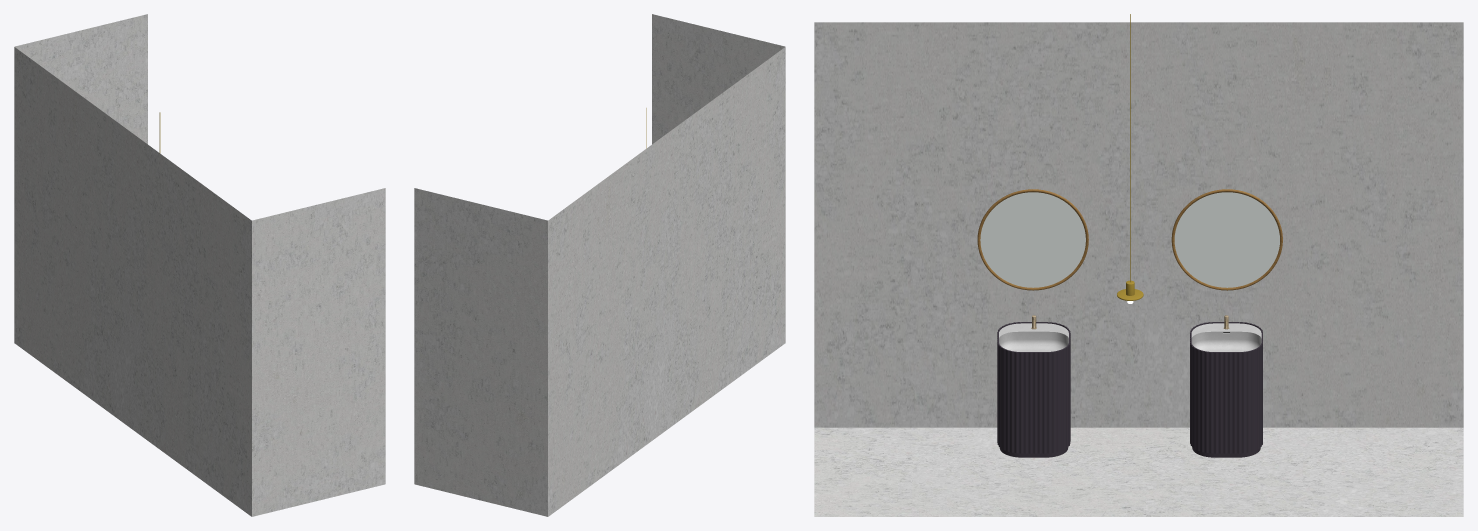
The model's file is mira-1.glb.
3 renders of one model, left to right at view 1: azimuth 30°, elevation 25°; view 2: azimuth 150°, elevation 25°; view 3: azimuth 270°, elevation 25°, orthographic. The views are drawn at different scales.
Parts seen in each view (by area): view 1: Plane; view 2: Plane; view 3: Plane, Cylinder.003, Circle.
Part boxes in pixels (left/top/right/bottom): Plane: left=14, top=14, right=385, bottom=516; Plane: left=414, top=14, right=785, bottom=516; Plane: left=814, top=22, right=1463, bottom=516; Cylinder.003: left=997, top=315, right=1262, bottom=457; Circle: left=977, top=189, right=1282, bottom=290.
Bounding box in the file's own units: 9.07 × 20.33 × 27.88.
9 materials, 5 textured.
